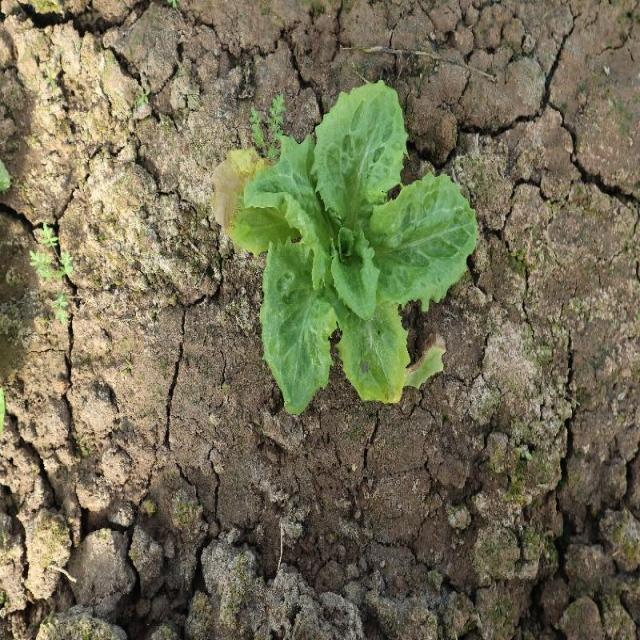crop: (246, 79, 479, 417)
